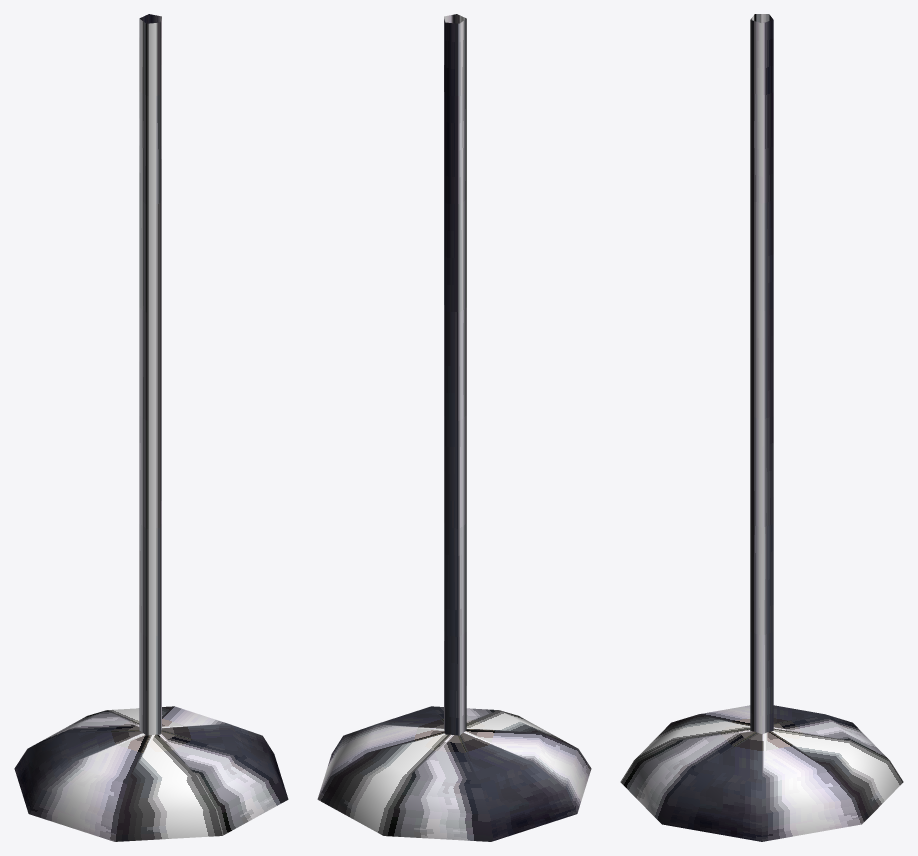
Rendered from cord_1m_3.fbx.
3 renders of one model, left to right at view 1: azimuth 30°, elevation 25°; view 2: azimuth 150°, elevation 25°; view 3: azimuth 270°, elevation 25°, orthographic.
Parts seen in each view (by area): view 1: mesh_0; view 2: mesh_0; view 3: mesh_0.
Part boxes in pixels (left/top/right/bottom): mesh_0: left=14, top=14, right=288, bottom=841; mesh_0: left=317, top=14, right=591, bottom=841; mesh_0: left=620, top=14, right=903, bottom=841.
Bounding box in the file's own units: 33.62 × 100 × 33.62.
Materials: 1 (1 with a texture image).
